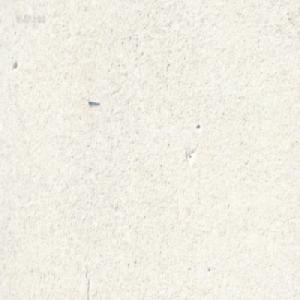Nail: (87, 96, 100, 104)
